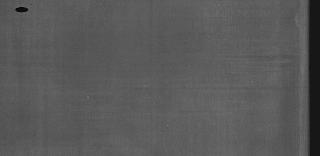punching hole: (13, 5, 33, 15)
